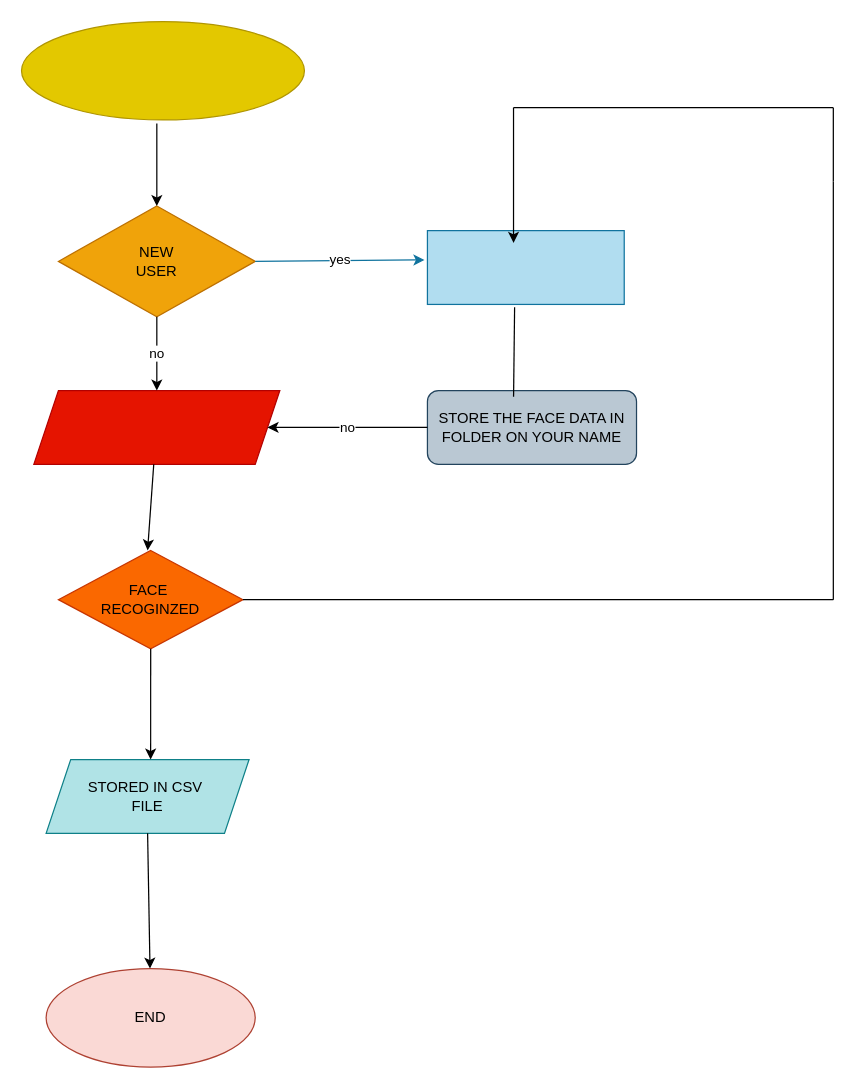
This 856x1089 diagram has some shape labels left out. The centre of each missing label's shape, as x and y in pixels:
GIVE YOUR PHOTOGRAPH: point (525, 266)
RECOGNIZE THE FACE: point (156, 426)
START: point (162, 70)
